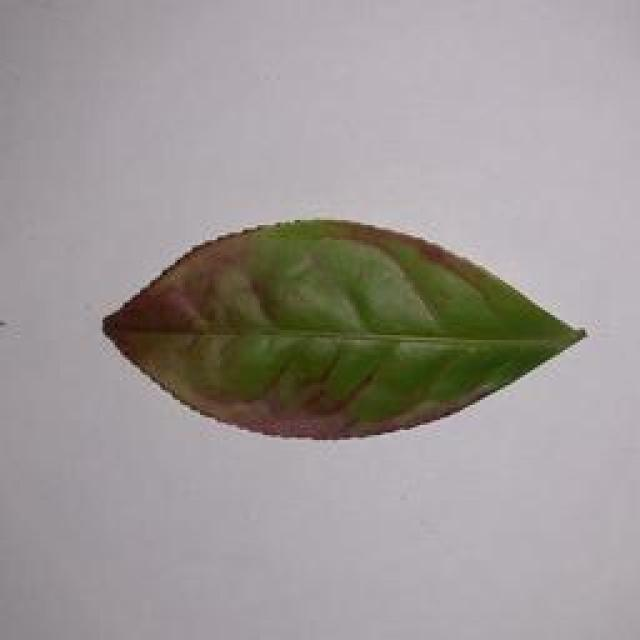Red Leaf Spot: (108, 208, 596, 456)
